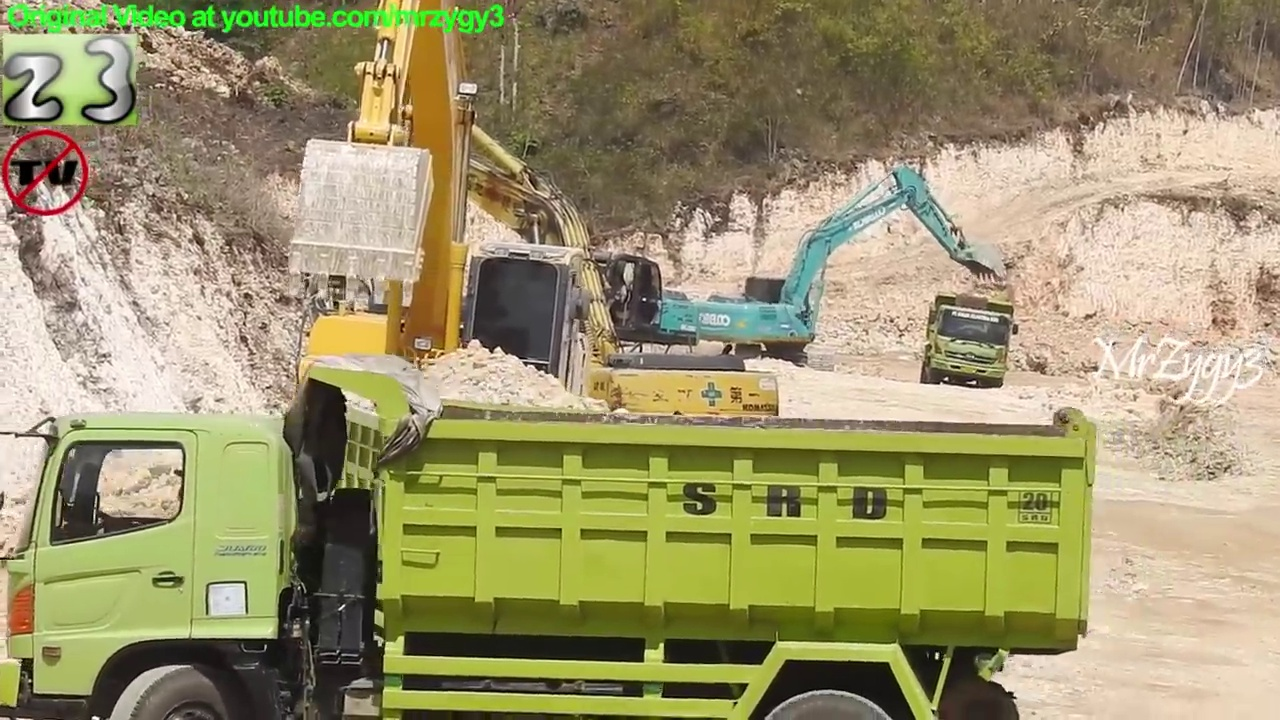excavator: (278, 1, 691, 510), (309, 96, 785, 498), (695, 161, 1012, 379), (441, 148, 705, 396)
truck: (2, 359, 1107, 720), (917, 290, 1023, 393)
